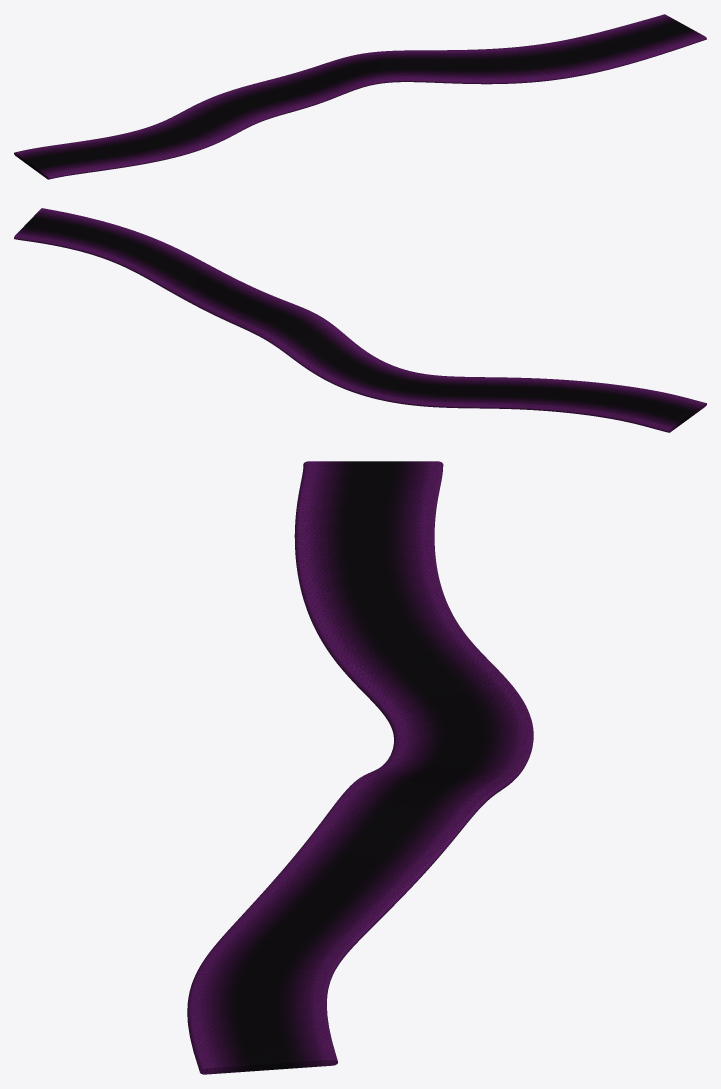
File: level-1-track-2.glb
3 views of the same model, one above another, from view 1: azimuth 30°, elevation 25°; view 2: azimuth 150°, elevation 25°; view 3: azimuth 270°, elevation 25° (orthographic). The views are drawn at different scales.
Visible parts, largest first — view 1: track-02; view 2: track-02; view 3: track-02.
Part boxes in pixels (x1,y1,x2,y2): track-02: (14,14,706,179); track-02: (14,208,706,432); track-02: (187,461,533,1074).
Bounding box in the file's own units: 87.23 × 3.19 × 20.7.
Materials: 2 (2 with a texture image).
